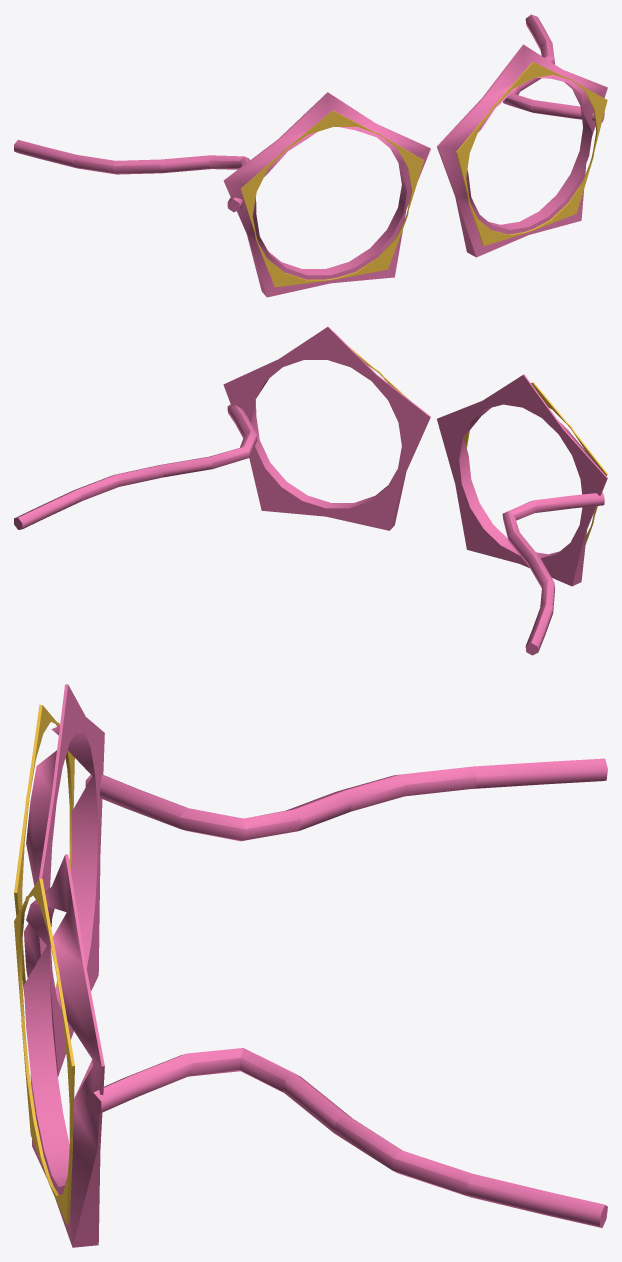
The model's file is GafasEstrella.fbx.
3 views of the same model, one above another, from view 1: azimuth 30°, elevation 25°; view 2: azimuth 150°, elevation 25°; view 3: azimuth 270°, elevation 25° (orthographic). The views are drawn at different scales.
Parts seen in each view (by area): view 1: GafasEstrella; view 2: GafasEstrella; view 3: GafasEstrella.
Part boxes in pixels (x1,y1,x2,y2): GafasEstrella: (14, 14, 607, 297); GafasEstrella: (14, 326, 607, 655); GafasEstrella: (14, 684, 607, 1247).
Size of the model in its own units: 2.03 by 0.71 by 1.12.
1 material, 1 textured.
